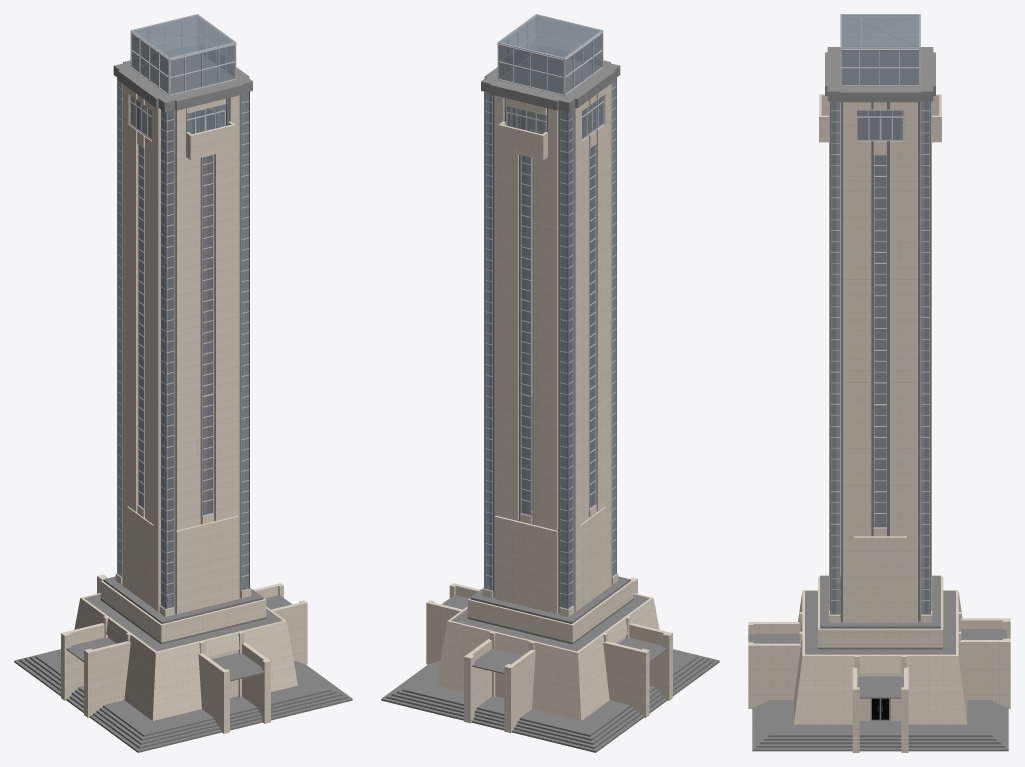
File: zht.gltf
The picture shows the model from 3 angles, left to right: view 1: azimuth 30°, elevation 25°; view 2: azimuth 150°, elevation 25°; view 3: azimuth 270°, elevation 25°; orthographic projection. The views are drawn at different scales.
Parts seen in each view (by area): view 1: zht09; view 2: zht09; view 3: zht09.
Boxes of the visible parts, bbox=[...] form: zht09: bbox=[14, 14, 352, 752]; zht09: bbox=[381, 14, 719, 752]; zht09: bbox=[748, 14, 1010, 752].
Bounding box in the file's own units: 19.65 × 57.19 × 19.65.
9 materials, 2 textured.
